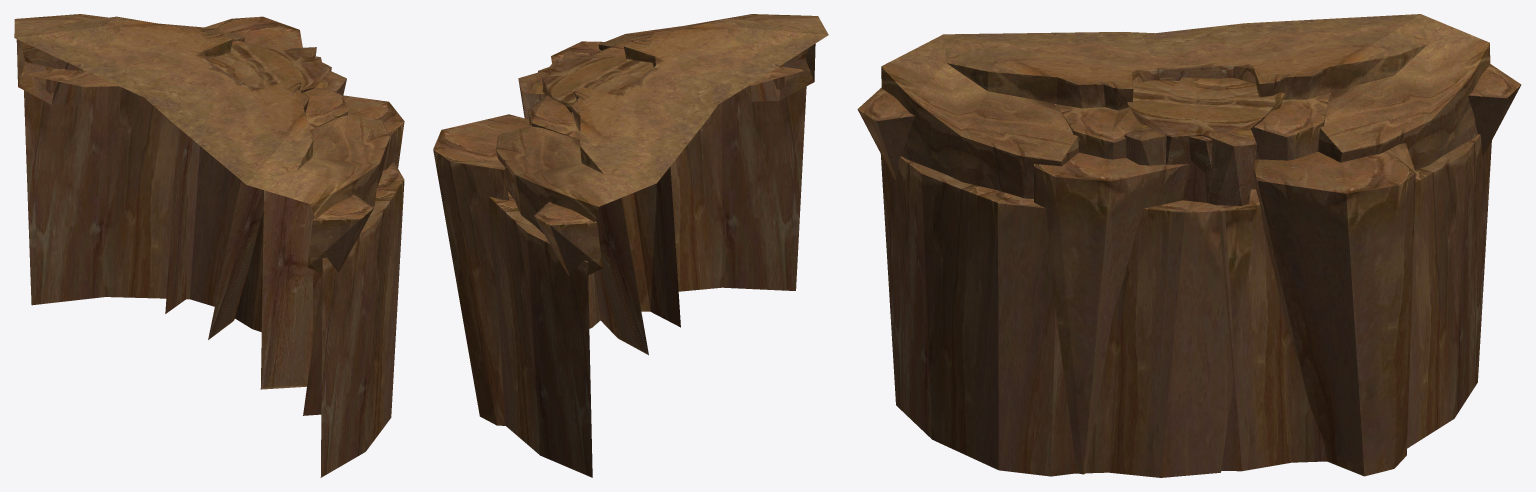
Rendered from SC001Jshanshi_06.FBX.
3 renders of one model, left to right at view 1: azimuth 30°, elevation 25°; view 2: azimuth 150°, elevation 25°; view 3: azimuth 270°, elevation 25°, orthographic. The views are drawn at different scales.
Visible parts, largest first — view 1: SC001Jshanshi_06; view 2: SC001Jshanshi_06; view 3: SC001Jshanshi_06.
Boxes of the visible parts, box(x1,y1,x2,y2) form: SC001Jshanshi_06: box(14, 14, 404, 477); SC001Jshanshi_06: box(433, 14, 828, 477); SC001Jshanshi_06: box(857, 14, 1521, 477).
Bounding box in the file's own units: 8.19 × 9.51 × 15.9.
